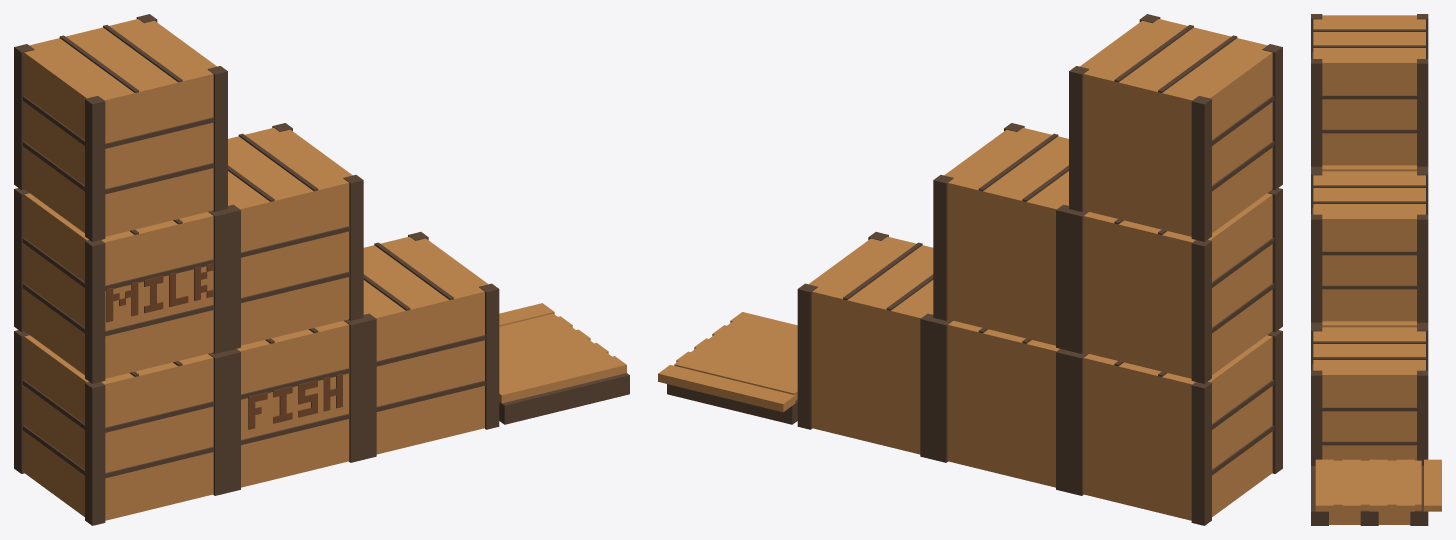
The model's file is CatCafe_Alley_CrateStack.glb.
3 renders of one model, left to right at view 1: azimuth 30°, elevation 25°; view 2: azimuth 150°, elevation 25°; view 3: azimuth 270°, elevation 25°, orthographic. The views are drawn at different scales.
Visible parts, largest first — view 1: CatCafe_Alley_CrateStack; view 2: CatCafe_Alley_CrateStack; view 3: CatCafe_Alley_CrateStack.
Part boxes in pixels (x1,y1,x2,y2): CatCafe_Alley_CrateStack: [14, 14, 629, 525]; CatCafe_Alley_CrateStack: [658, 14, 1282, 525]; CatCafe_Alley_CrateStack: [1311, 14, 1441, 525].
Size of the model in its own units: 10.3 by 7.74 by 2.9.
1 material, 1 textured.
